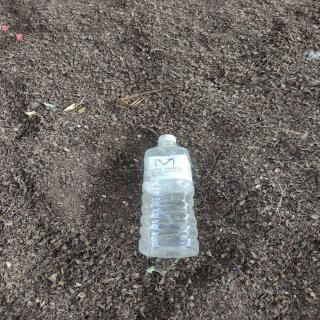Plastic-bottle: (136, 129, 203, 265)
